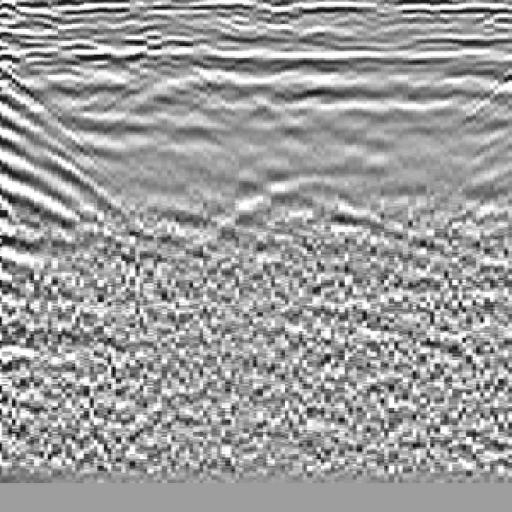metalic: (184, 41, 407, 270)
nonmetalic: (1, 33, 132, 291)
